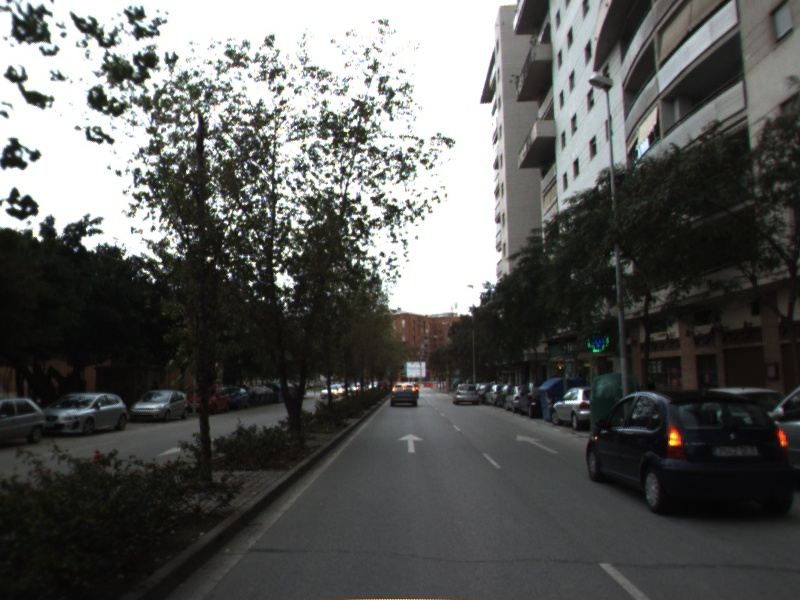STRAIGHT: (514, 432, 562, 455), (395, 431, 426, 454)
